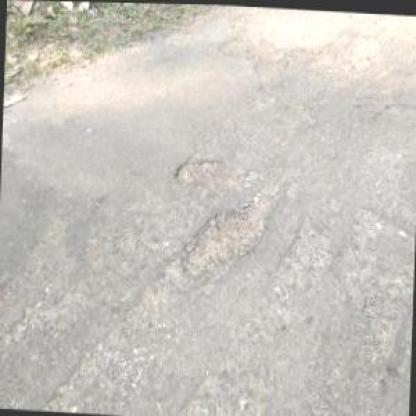pothole: (183, 186, 282, 279), (359, 294, 409, 358), (172, 154, 225, 187)
